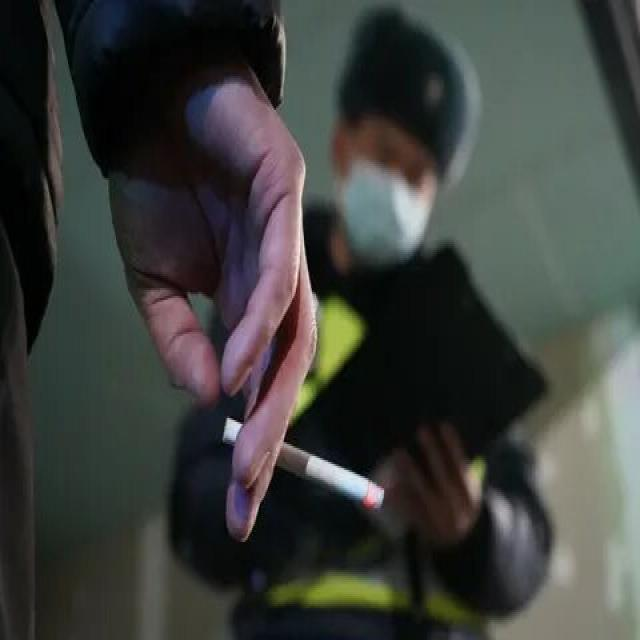smoke: (220, 412, 389, 512)
